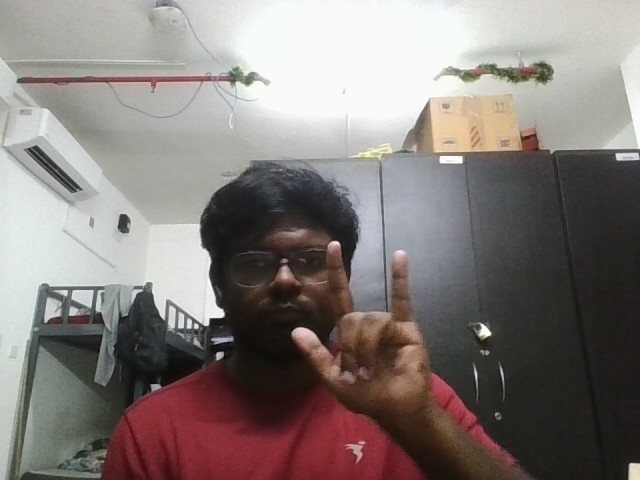I Love You: (283, 234, 468, 427)
